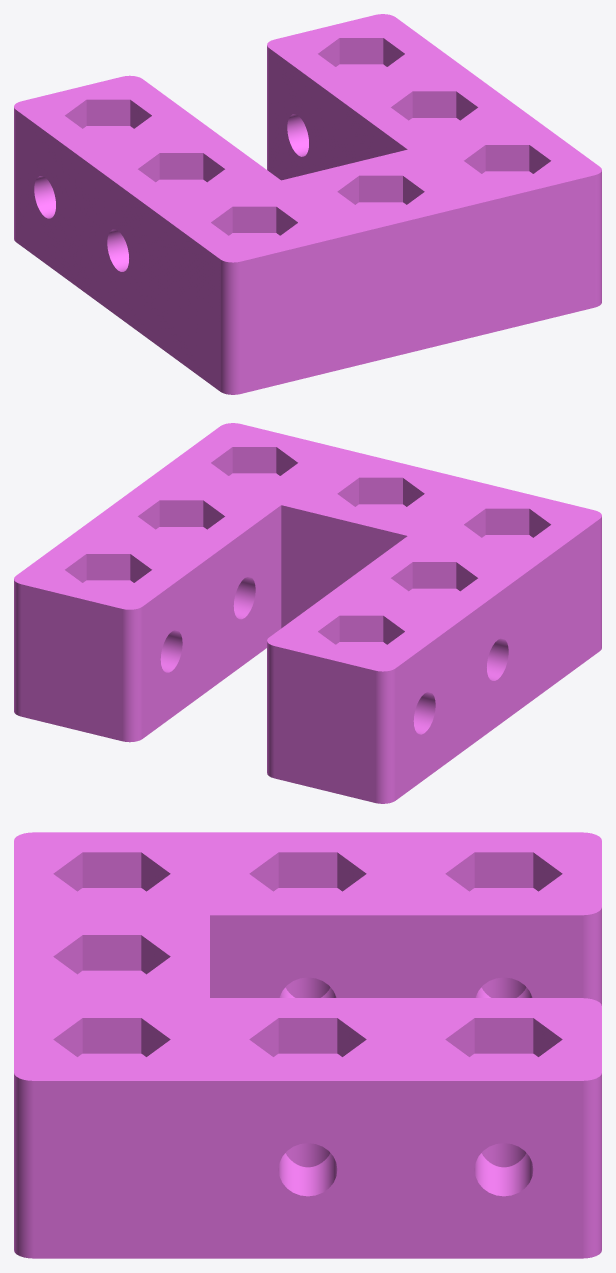
The model's file is U_pink.glb.
3 renders of one model, top to bottom at view 1: azimuth 30°, elevation 25°; view 2: azimuth 150°, elevation 25°; view 3: azimuth 270°, elevation 25°, orthographic. The views are drawn at different scales.
Parts seen in each view (by area): view 1: U; view 2: U; view 3: U.
Part boxes in pixels (x1=…): U: x1=14, y1=14, x2=601, y2=394; U: x1=14, y1=423, x2=601, y2=803; U: x1=14, y1=832, x2=601, y2=1258.
Bounding box in the file's own units: 0.03 × 0.01 × 0.03.
